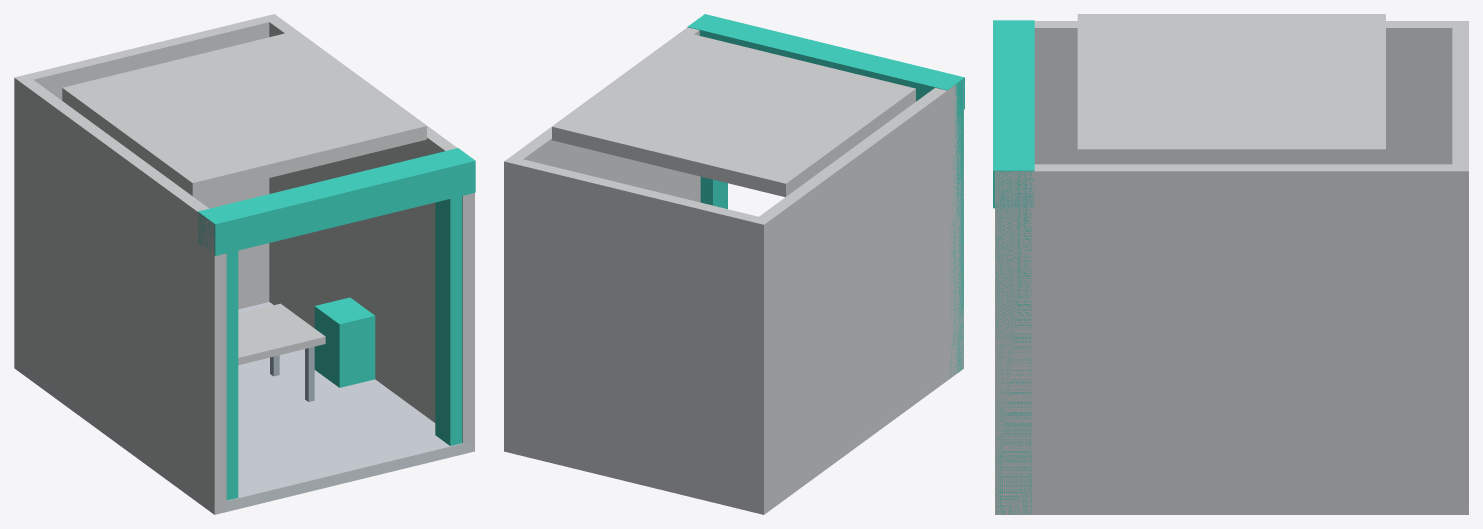
The picture shows the model from 3 angles, left to right: view 1: azimuth 30°, elevation 25°; view 2: azimuth 150°, elevation 25°; view 3: azimuth 270°, elevation 25°; orthographic projection. The views are drawn at different scales.
Visible parts, largest first — view 1: Exhibition Booth Concept; view 2: Exhibition Booth Concept; view 3: Exhibition Booth Concept.
Boxes of the visible parts, x1,y1,x2,y2 form: Exhibition Booth Concept: (14,14,475,514); Exhibition Booth Concept: (504,14,964,514); Exhibition Booth Concept: (993,14,1468,514).
Bounding box in the file's own units: 3 × 3.34 × 4.02.
